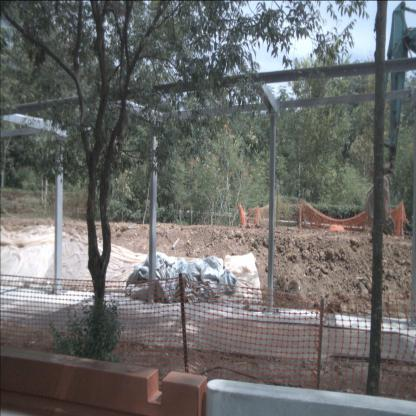barrier: (0, 345, 208, 416), (206, 378, 416, 416)
